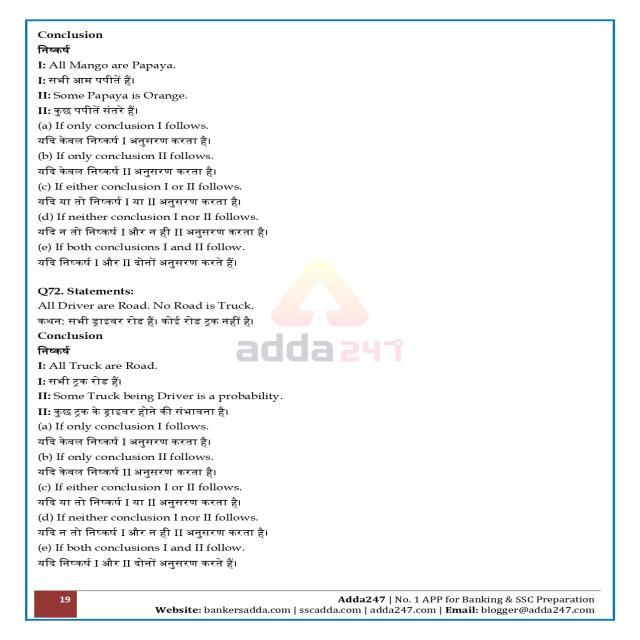Answer_Block: (26, 330, 610, 582)
Description: (29, 24, 614, 274)
Question_Answer_Block: (29, 286, 610, 584)
Question_Block: (28, 286, 612, 330)
Question_Paper_Area: (26, 21, 608, 591)
